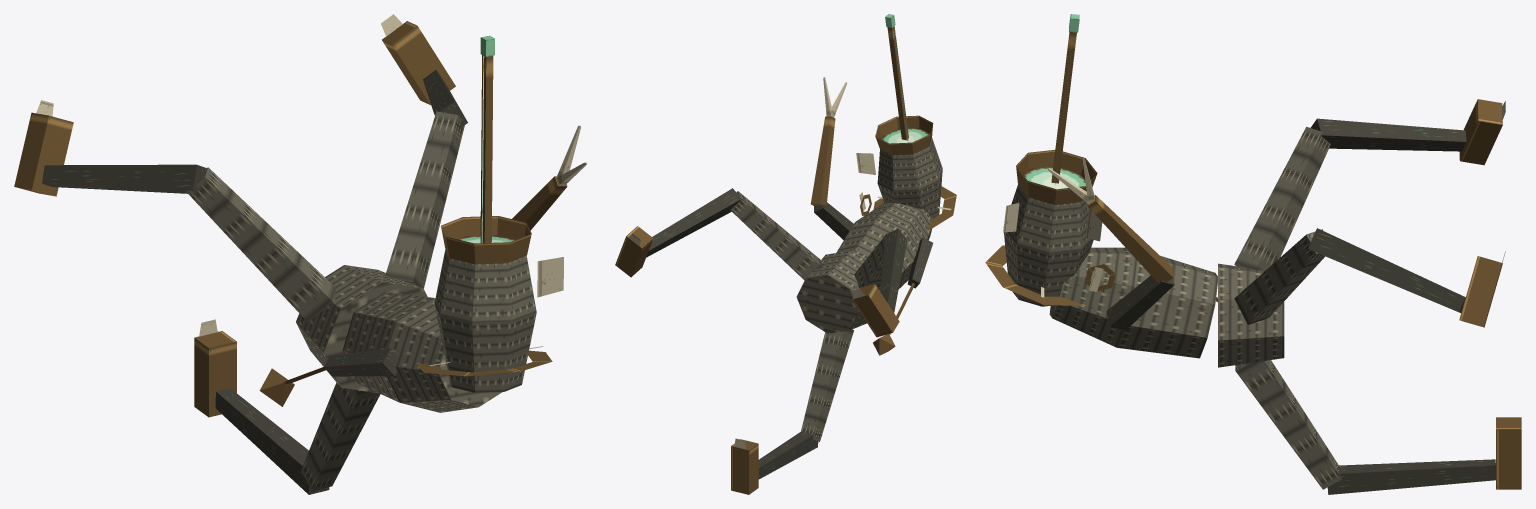
The model's file is surveyor_locomotion_b.obj.
The picture shows the model from 3 angles, left to right: view 1: azimuth 30°, elevation 25°; view 2: azimuth 150°, elevation 25°; view 3: azimuth 270°, elevation 25°; orthographic projection. The views are drawn at different scales.
Visible parts, largest first — view 1: head, torso, leg_fl_thigh, leg_fr_thigh, root, leg_rear_thigh, leg_fl_shin, leg_rear_shin, leg_fl_foot, leg_rear_foot, leg_fr_foot, plumb (+4 smaller); view 2: head, root, torso, leg_rear_thigh, leg_fr_thigh, caliper, leg_fr_shin, leg_fl_foot, leg_fl_shin, leg_rear_foot, leg_rear_shin, leg_fr_foot (+4 smaller); view 3: torso, head, leg_fl_thigh, leg_rear_thigh, root, caliper, leg_rear_shin, leg_fl_shin, leg_fr_thigh, leg_fr_shin, leg_fl_foot, leg_rear_foot (+3 smaller).
Boxes of the visible parts, <box> form: head: <box>434,216,563,392</box>; torso: <box>342,292,502,412</box>; leg_fl_thigh: <box>186,167,335,321</box>; leg_fr_thigh: <box>385,111,464,288</box>; root: <box>296,265,427,393</box>; leg_rear_thigh: <box>301,382,380,491</box>; leg_fl_shin: <box>42,164,207,193</box>; leg_rear_shin: <box>215,388,329,494</box>; leg_fl_foot: <box>14,100,73,196</box>; leg_rear_foot: <box>194,319,236,417</box>; leg_fr_foot: <box>381,14,455,105</box>; plumb: <box>259,348,397,406</box>; head: <box>856,115,942,219</box>; root: <box>796,250,880,333</box>; torso: <box>836,192,931,288</box>; leg_rear_thigh: <box>801,329,853,441</box>; leg_fr_thigh: <box>730,191,822,280</box>; caliper: <box>810,77,853,240</box>; leg_fr_shin: <box>646,188,741,257</box>; leg_fl_foot: <box>851,284,899,337</box>; leg_fl_shin: <box>880,228,907,312</box>; leg_rear_foot: <box>731,438,758,494</box>; leg_rear_shin: <box>758,431,818,479</box>; leg_fr_foot: <box>615,226,653,277</box>; torso: <box>1049,247,1217,358</box>; head: <box>1003,150,1102,306</box>; leg_fl_thigh: <box>1234,126,1330,270</box>; leg_rear_thigh: <box>1235,360,1341,489</box>; root: <box>1218,263,1284,367</box>; caliper: <box>1048,158,1174,330</box>; leg_rear_shin: <box>1327,459,1495,494</box>; leg_fl_shin: <box>1310,118,1466,151</box>; leg_fr_thigh: <box>1234,229,1324,324</box>; leg_fr_shin: <box>1308,228,1465,312</box>; leg_fl_foot: <box>1459,99,1505,165</box>; leg_rear_foot: <box>1496,417,1521,489</box>.
Size of the model in its own units: 0.7475 by 0.9204 by 0.9231.
Materials: 1 (1 with a texture image).
